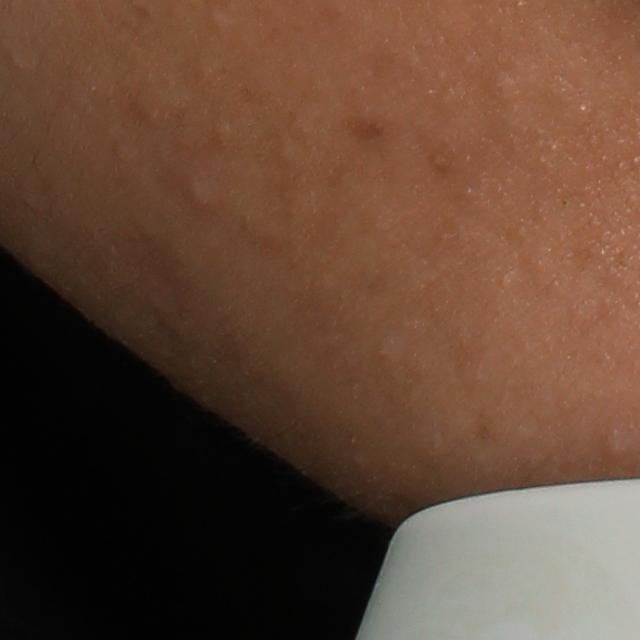comedo: (184, 171, 226, 213), (485, 74, 518, 105), (203, 6, 233, 33), (601, 434, 629, 460)
